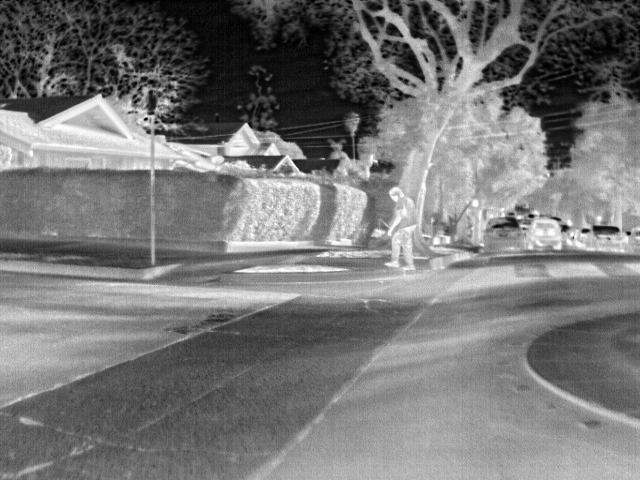car: (483, 218, 528, 254), (532, 218, 563, 252), (591, 225, 624, 252), (620, 226, 640, 254), (575, 226, 590, 246), (562, 223, 574, 242)
person: (382, 185, 419, 272)
